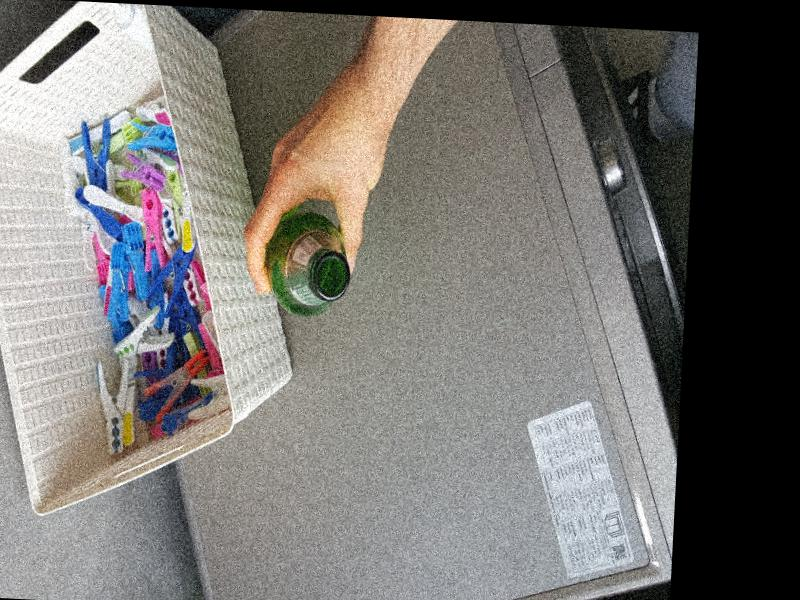Beer: (262, 208, 354, 319)
